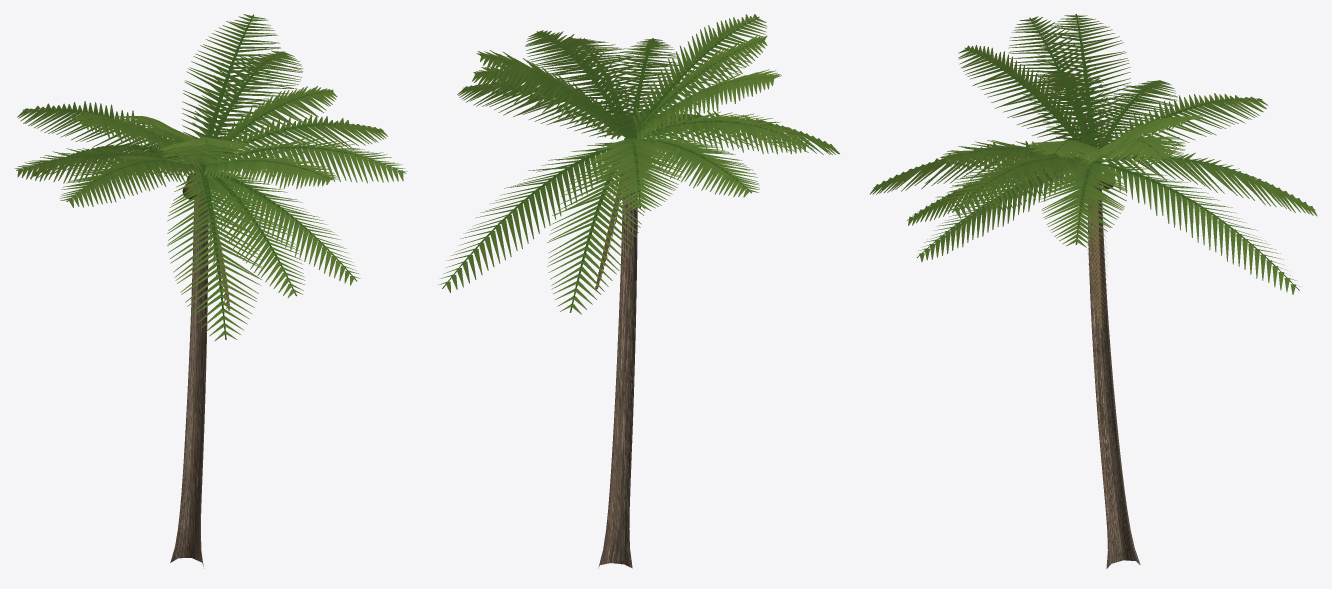
Rendered from palm_medium.glb.
The picture shows the model from 3 angles, left to right: view 1: azimuth 30°, elevation 25°; view 2: azimuth 150°, elevation 25°; view 3: azimuth 270°, elevation 25°; orthographic projection. The views are drawn at different scales.
Parts seen in each view (by area): view 1: leaves, trunk; view 2: leaves, trunk; view 3: leaves, trunk.
Part boxes in pixels (x1=…): leaves: x1=14, y1=14, x2=407, y2=341; trunk: x1=170, y1=168, x2=208, y2=568; leaves: x1=439, y1=14, x2=839, y2=314; trunk: x1=598, y1=138, x2=637, y2=568; leaves: x1=869, y1=14, x2=1317, y2=328; trunk: x1=1087, y1=172, x2=1140, y2=568.
Bounding box in the file's own units: 5.91 × 8.72 × 7.03.
3 materials, 1 textured.
